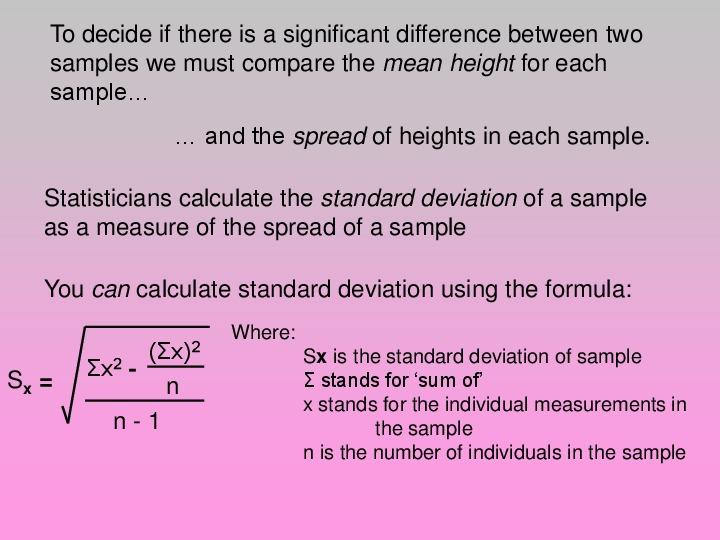paragraph: (3, 5, 707, 497)
